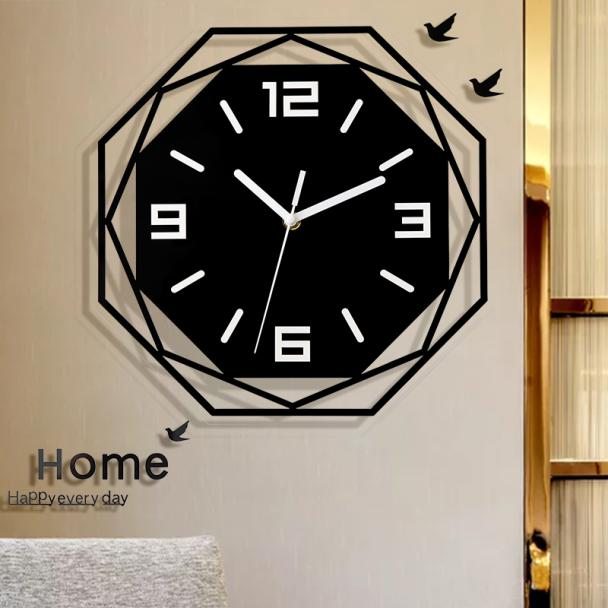Jam: (131, 65, 447, 381)
